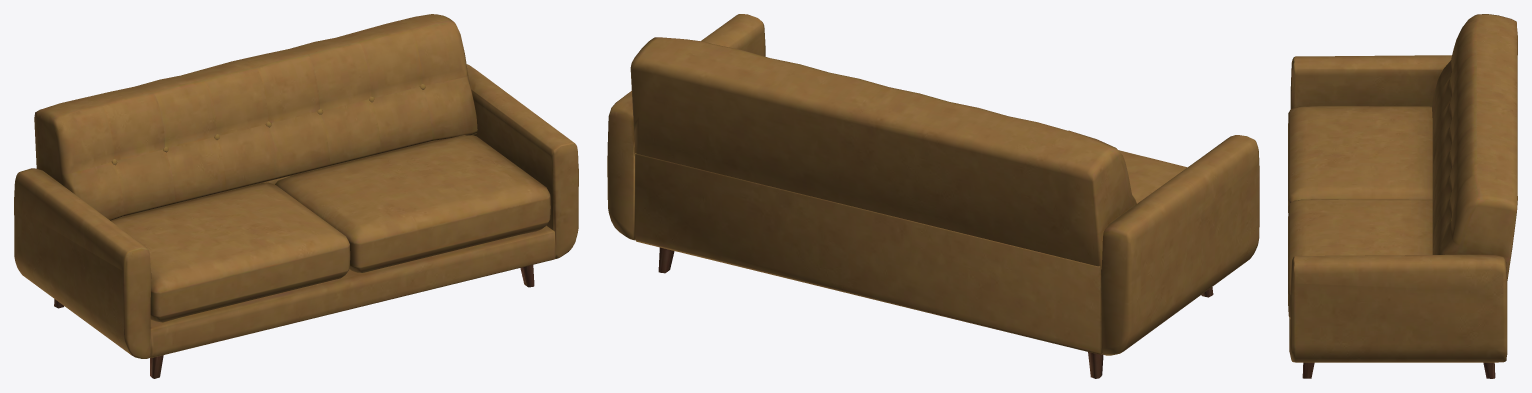
File: abo-B07P5LKKMW.glb
The picture shows the model from 3 angles, left to right: view 1: azimuth 30°, elevation 25°; view 2: azimuth 150°, elevation 25°; view 3: azimuth 270°, elevation 25°; orthographic projection. The views are drawn at different scales.
Parts seen in each view (by area): view 1: RootNode; view 2: RootNode; view 3: RootNode.
Boxes of the visible parts, x1=… form: RootNode: x1=14, y1=14, x2=578, y2=378; RootNode: x1=607, y1=14, x2=1259, y2=378; RootNode: x1=1288, y1=14, x2=1517, y2=378.
Bounding box in the file's own units: 2.14 × 0.8916 × 0.9806.
Materials: 1 (1 with a texture image).
